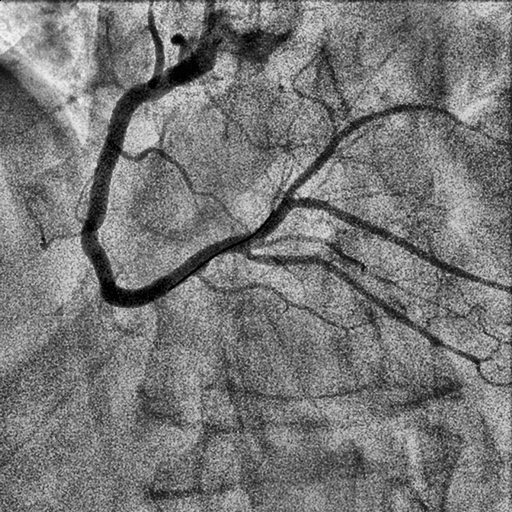pborca: (248, 104, 510, 247)
pda: (246, 252, 475, 359)
rca: (81, 48, 251, 308)
